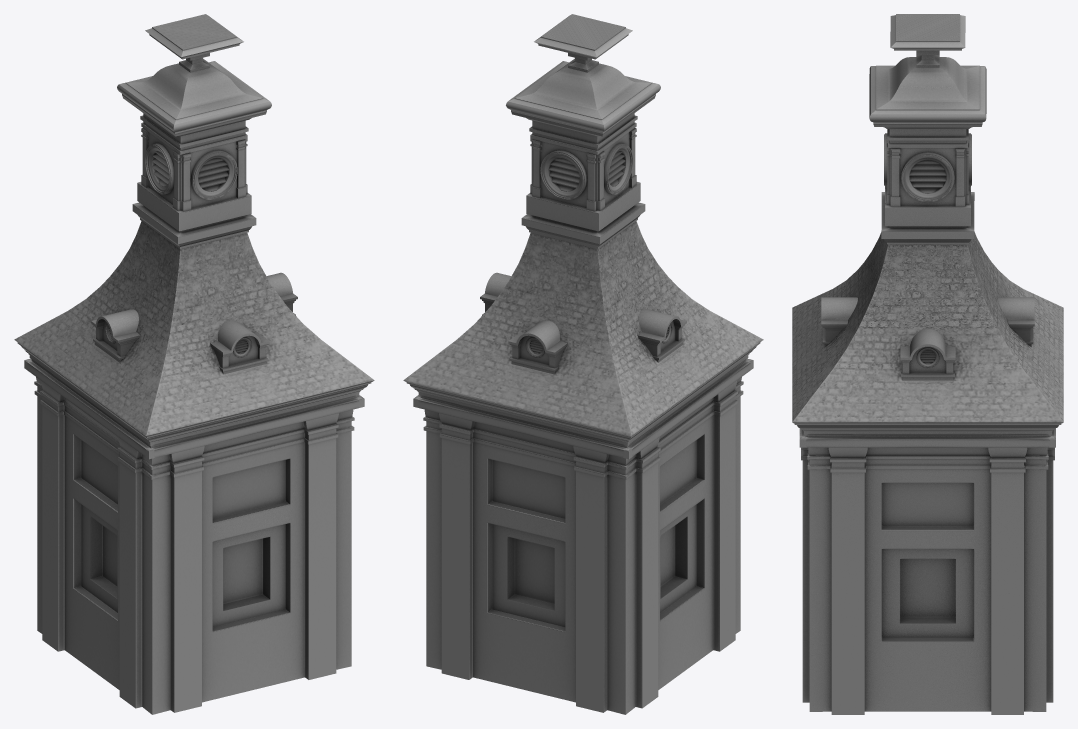
The model's file is bg_tower3.dae.
3 views of the same model, side by side, from view 1: azimuth 30°, elevation 25°; view 2: azimuth 150°, elevation 25°; view 3: azimuth 270°, elevation 25° (orthographic). The views are drawn at different scales.
Parts seen in each view (by area): view 1: tower.003; view 2: tower.003; view 3: tower.003.
Part boxes in pixels (box(x1,y1,x2,y2)): tower.003: box(14, 14, 374, 714); tower.003: box(403, 14, 763, 714); tower.003: box(792, 14, 1063, 714).
Size of the model in its own units: 5.95 by 5.95 by 15.33.
Materials: 1 (1 with a texture image).
